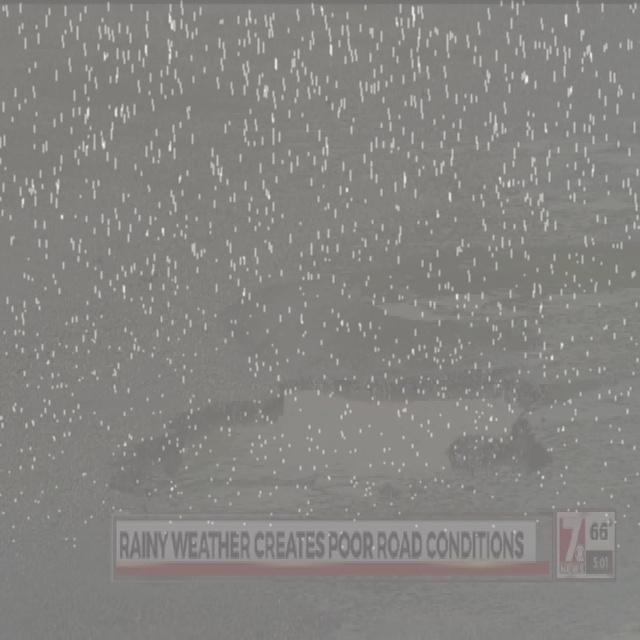Pothole: (101, 372, 572, 516), (350, 227, 640, 336)
